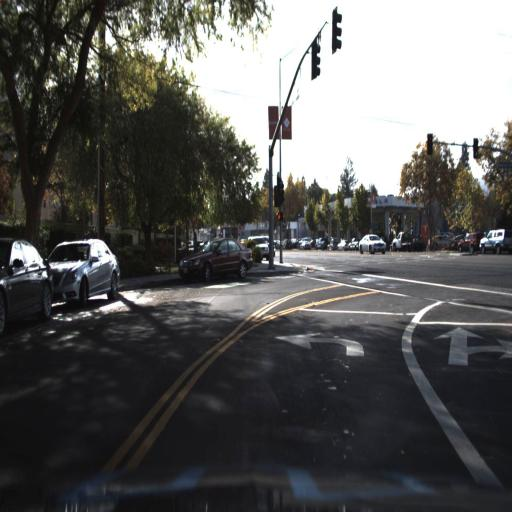car: (48, 229, 124, 316), (0, 236, 51, 334), (175, 237, 257, 291), (474, 227, 510, 254), (356, 228, 388, 257), (246, 232, 275, 262), (480, 229, 511, 254), (457, 230, 482, 252), (430, 230, 452, 252)
